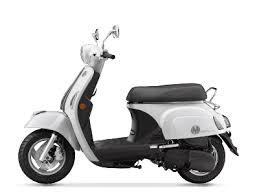motorcycle: (11, 21, 240, 190)
